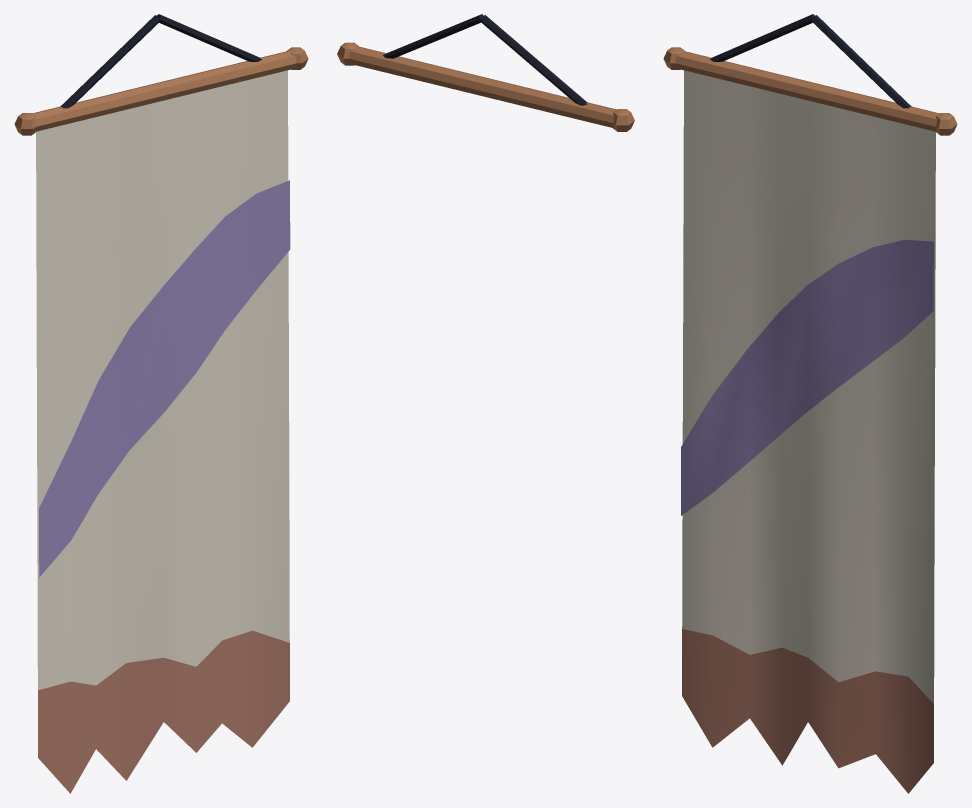
Rendered from prop_banner.glb.
3 renders of one model, left to right at view 1: azimuth 30°, elevation 25°; view 2: azimuth 150°, elevation 25°; view 3: azimuth 330°, elevation 25°, orthographic.
Parts seen in each view (by area): view 1: BannerMesh; view 2: BannerMesh; view 3: BannerMesh.
Boxes of the visible parts, left/top/right/bottom form: BannerMesh: left=14, top=14, right=308, bottom=793; BannerMesh: left=337, top=14, right=634, bottom=131; BannerMesh: left=663, top=14, right=957, bottom=793.
Bounding box in the file's own units: 1.19 × 2.99 × 0.09.
